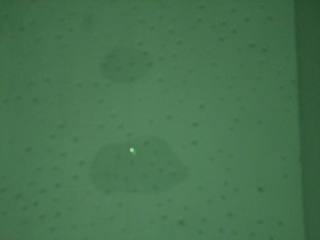Water_detected: (100, 133, 174, 194), (100, 40, 150, 81)
